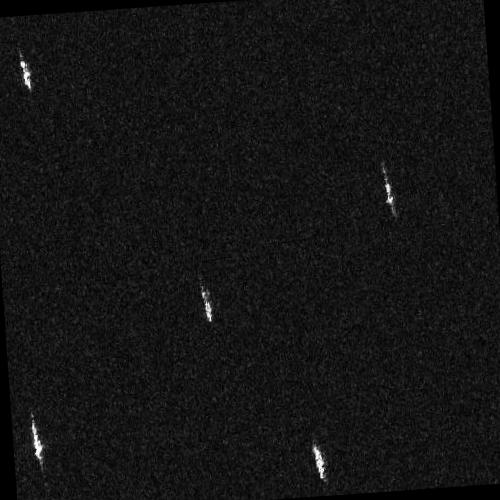ship: (30, 415, 44, 466), (381, 167, 394, 210), (199, 285, 213, 324), (311, 444, 326, 479), (19, 59, 32, 91)
